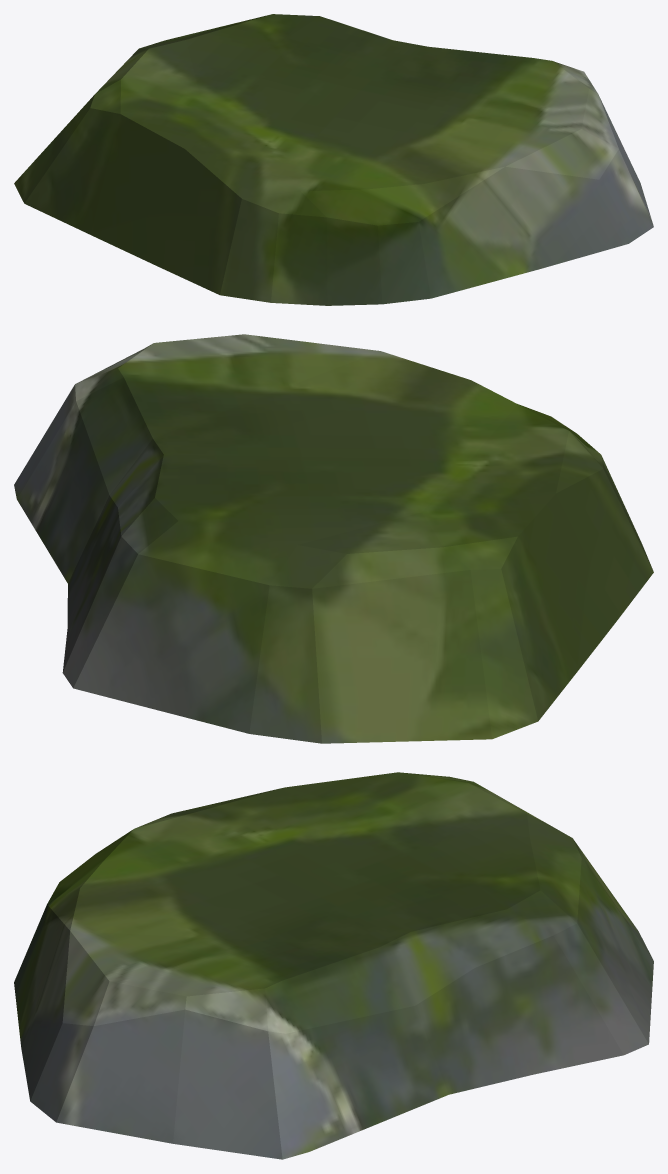
The model's file is Pebble_Round_2.gltf.
The picture shows the model from 3 angles, top to bottom: view 1: azimuth 30°, elevation 25°; view 2: azimuth 150°, elevation 25°; view 3: azimuth 270°, elevation 25°; orthographic projection. The views are drawn at different scales.
Visible parts, largest first — view 1: Pebble_Round_2; view 2: Pebble_Round_2; view 3: Pebble_Round_2.
Part boxes in pixels (<box>): Pebble_Round_2: <box>14,14,653,305</box>; Pebble_Round_2: <box>14,334,653,743</box>; Pebble_Round_2: <box>14,772,653,1159</box>.
Size of the model in its own units: 0.4495 by 0.0942 by 0.4111.
Materials: 1 (1 with a texture image).
